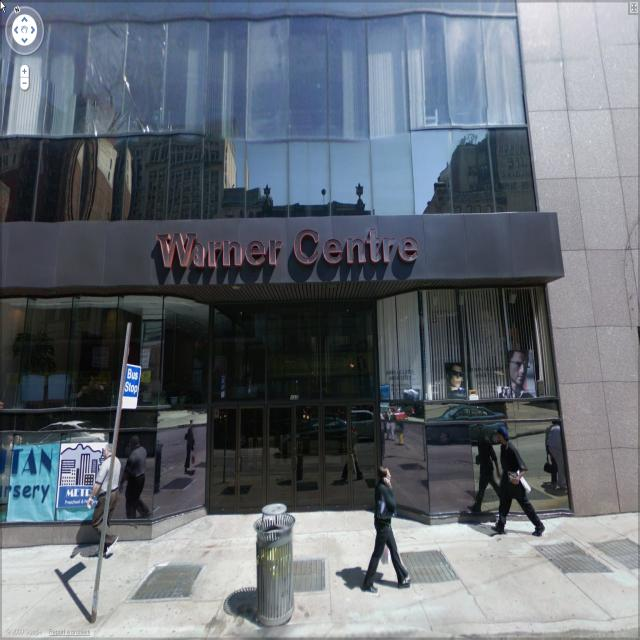b_1: (0, 3, 580, 508), (524, 8, 640, 500)
